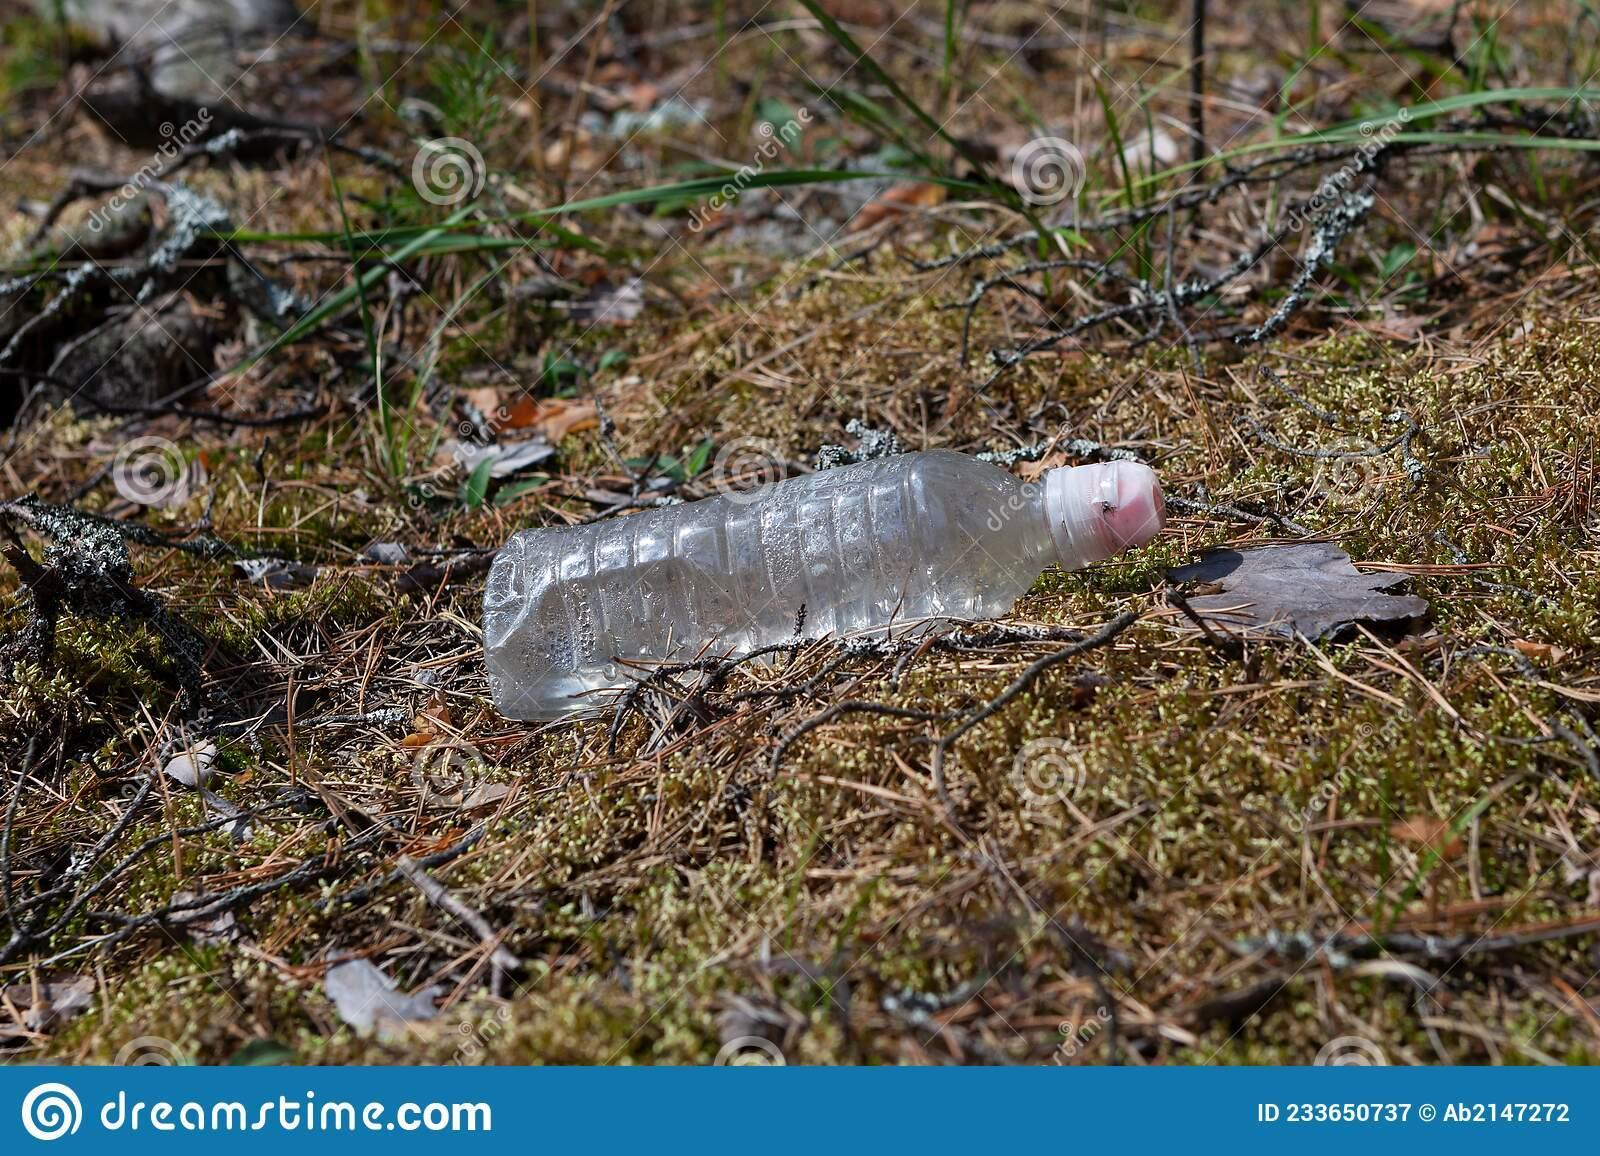bottle: (461, 407, 1194, 760)
